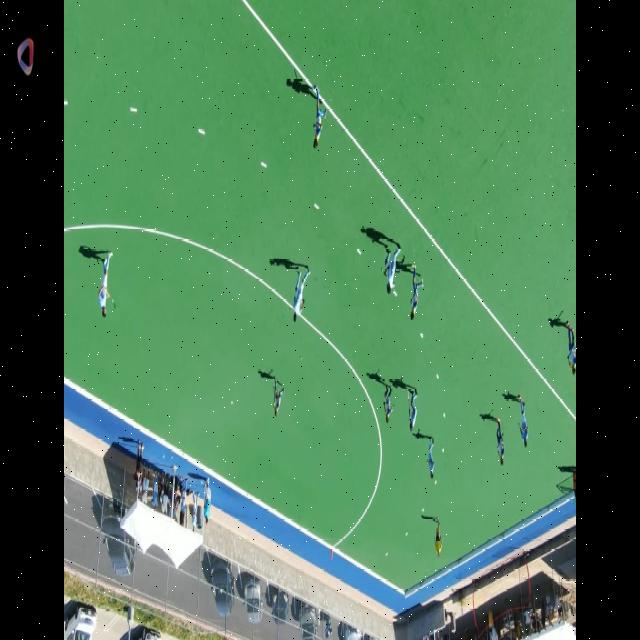humans: (94, 240, 114, 325), (291, 260, 312, 327), (382, 238, 402, 298), (311, 80, 327, 155), (407, 260, 424, 326), (516, 391, 531, 454), (562, 320, 576, 387), (493, 412, 506, 473), (270, 374, 286, 422), (406, 385, 419, 438), (381, 379, 394, 431), (426, 432, 438, 488), (134, 444, 146, 491), (203, 474, 213, 528), (434, 516, 444, 564)
